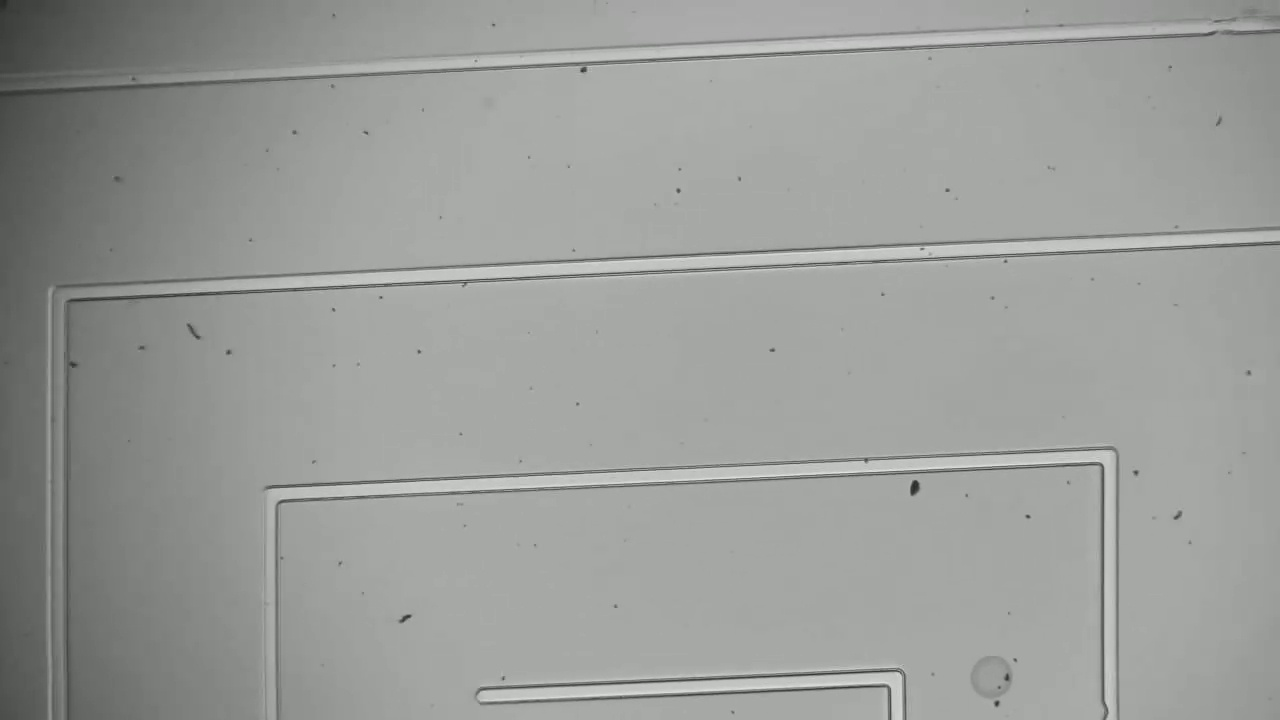edge_bite: (1193, 8, 1244, 45), (1087, 690, 1128, 720)
